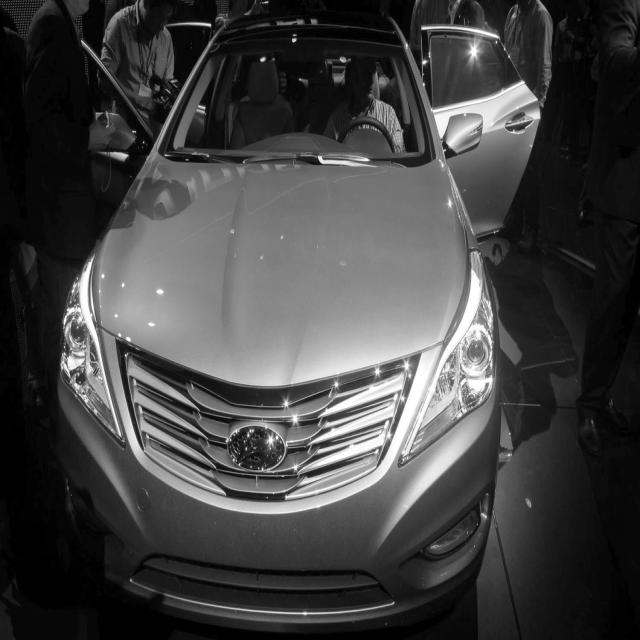car: (54, 10, 518, 632)
